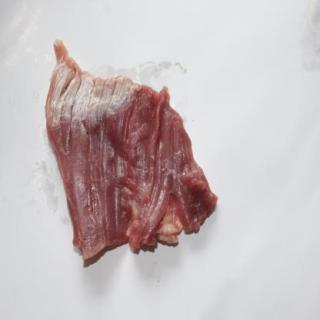Daging Sapi: (46, 41, 218, 264)
